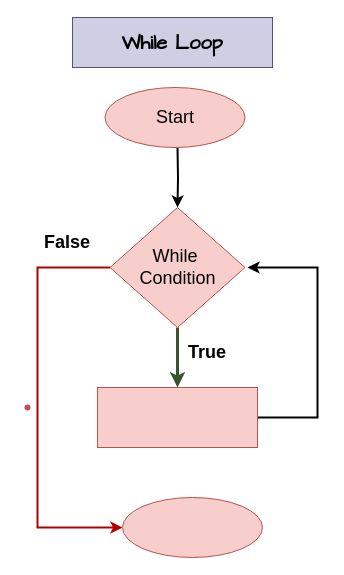
The diagram is 344 pixels wide and 575 high, and some of its shapes have lost their labels. Each missing label, with the centre of its shape:
Conditon: pixel 177 417
Stop: pixel 192 527
